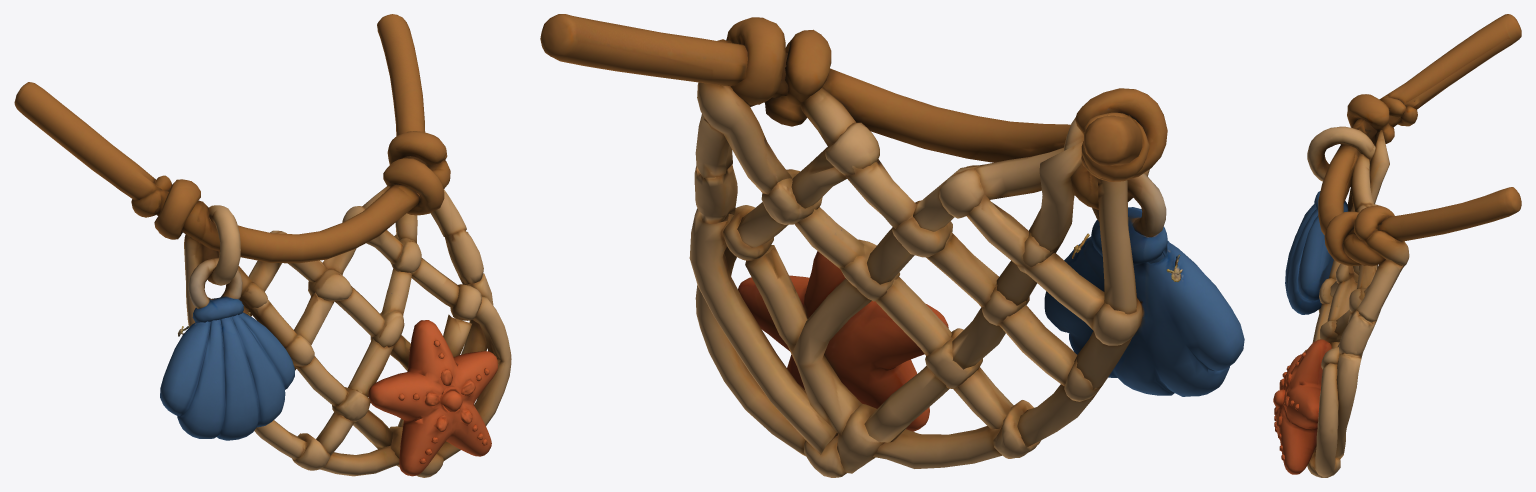
The model's file is mem_ac_ropebag.fbx.
The picture shows the model from 3 angles, left to right: view 1: azimuth 30°, elevation 25°; view 2: azimuth 150°, elevation 25°; view 3: azimuth 270°, elevation 25°; orthographic projection. The views are drawn at different scales.
Parts seen in each view (by area): view 1: tripo_node_4ed39b89; view 2: tripo_node_4ed39b89; view 3: tripo_node_4ed39b89.
Part boxes in pixels (left/top/right/bottom): tripo_node_4ed39b89: left=14, top=14, right=511, bottom=477; tripo_node_4ed39b89: left=540, top=14, right=1244, bottom=477; tripo_node_4ed39b89: left=1273, top=14, right=1521, bottom=477.
Bounding box in the file's own units: 0.998 × 0.9434 × 0.627.
